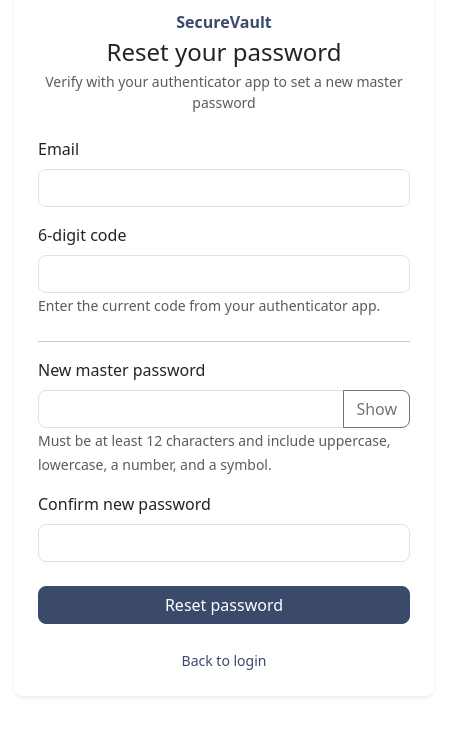
Test: ForgotPassword screen (PRD 0020) › shows ONE generic message for the 401 covering unknown email / no-2FA / wrong code
In the field labelled "Email": [224, 188] box x1=38 y1=169 x2=410 y2=207, type "nobody@example.com"
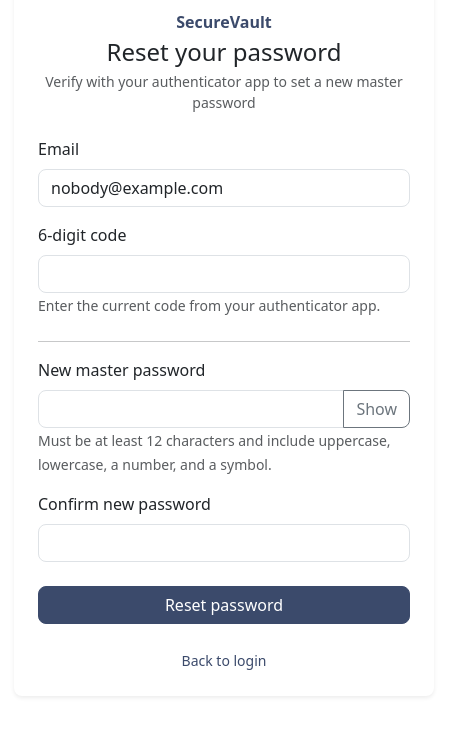
In the field labelled "6-digit code": [224, 274] box x1=38 y1=255 x2=410 y2=293, type "000000"
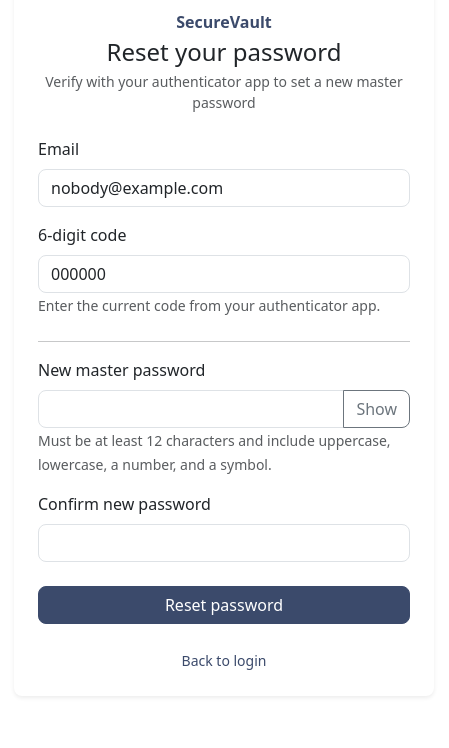
In the password field labelled "New master password": [191, 409] box x1=38 y1=390 x2=344 y2=428, type "StrongPass1!"
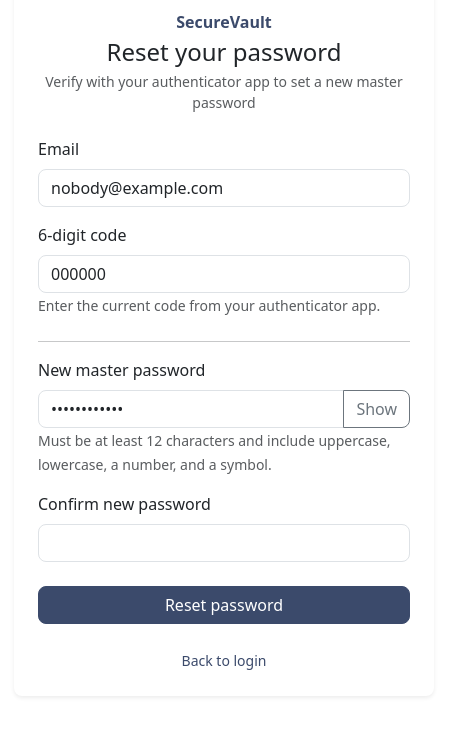
In the password field labelled "Confirm new password": [224, 543] box x1=38 y1=524 x2=410 y2=562, type "StrongPass1!"
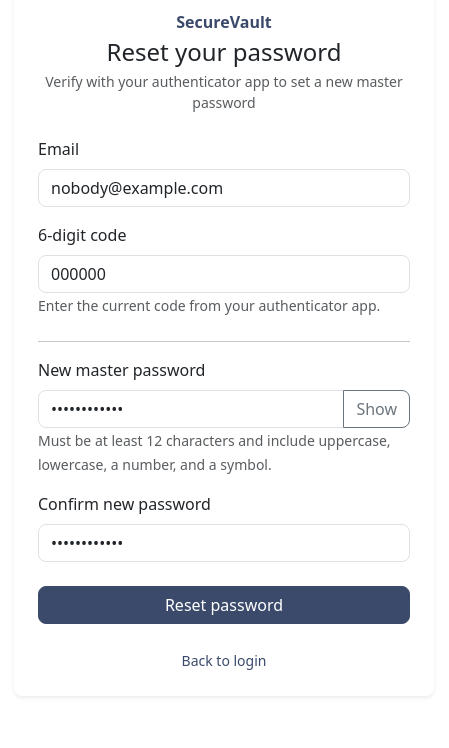
Click the button "Reset password": [224, 605] box x1=38 y1=586 x2=410 y2=624
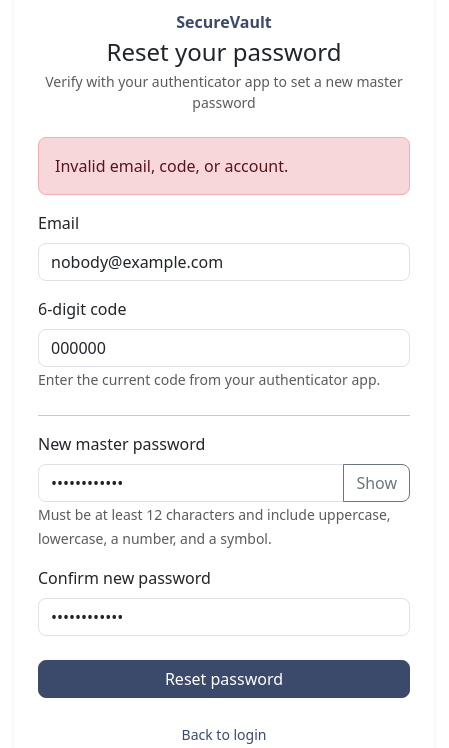
Now the message reads "Invalid email, code, or account.", box x1=55 y1=155 x2=288 y2=177
